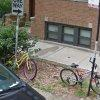Bicycle: (53, 55, 100, 97)
